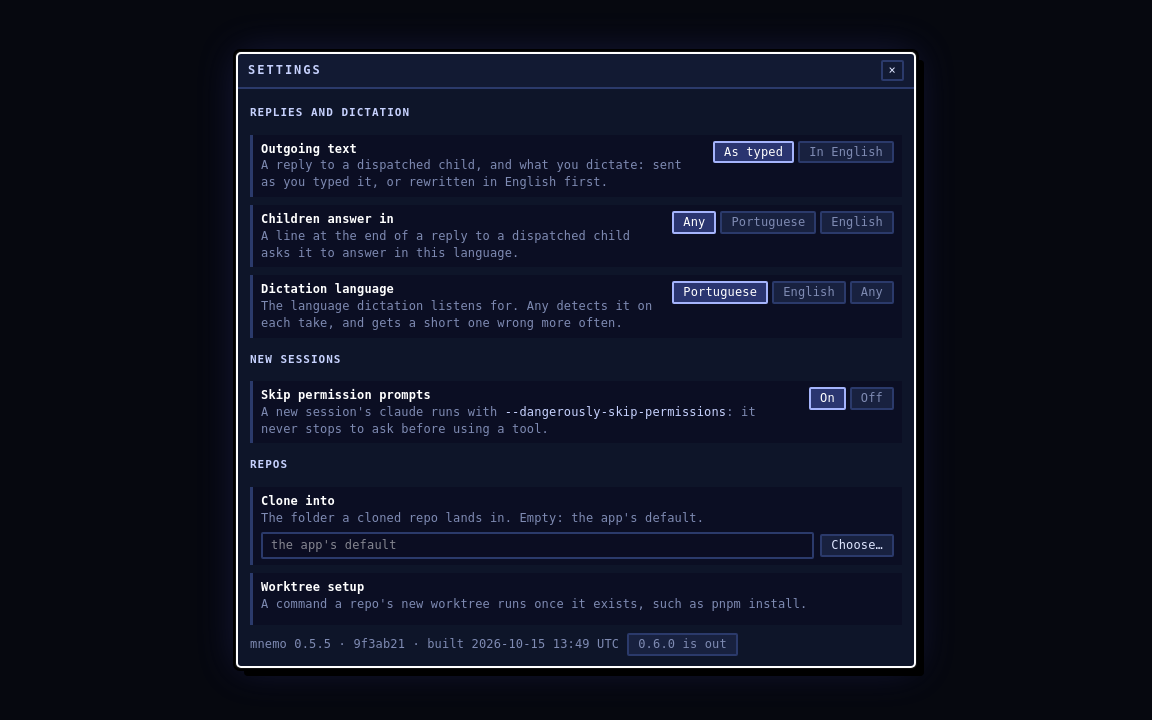
Test: a write that fails is said under its setting
Click the button "Portuguese" in the row of "Children answer in".
click(768, 222)  # box [720,211,816,234]
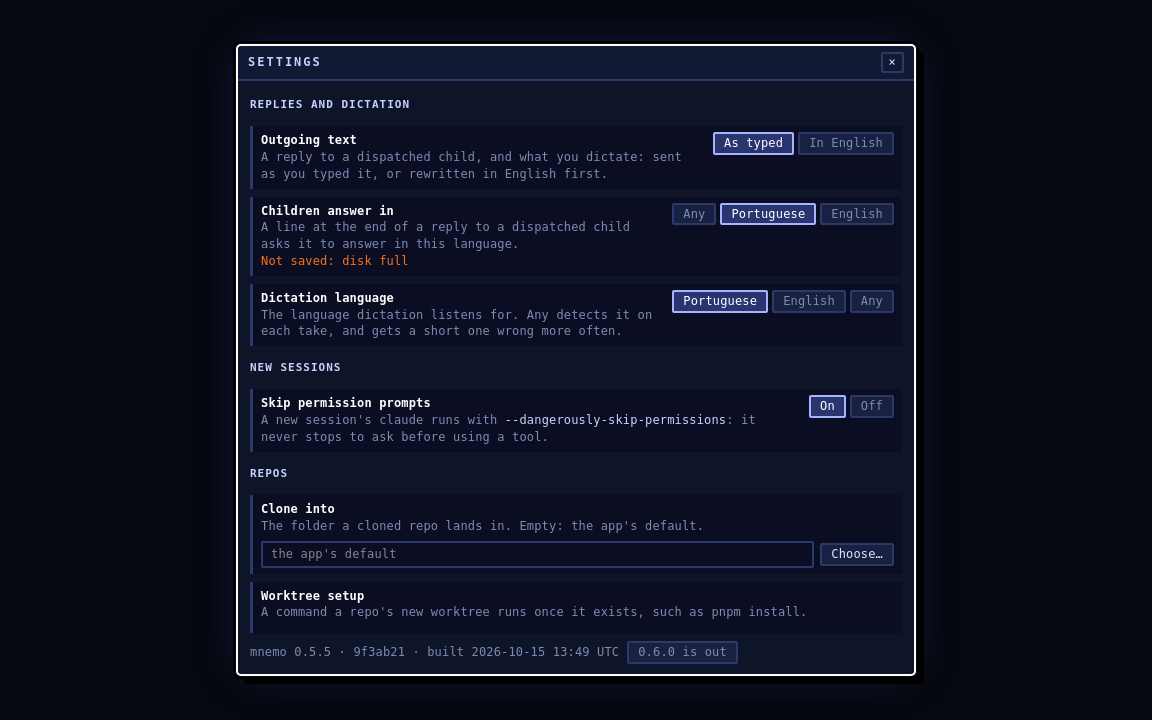
Now the message "Not saved: disk full" is shown, box [261,254,409,268]
